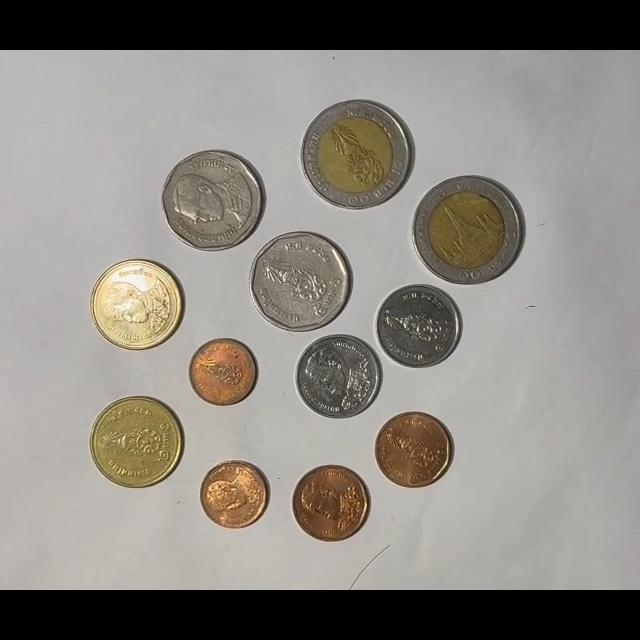1-baht: (294, 334, 381, 420), (375, 284, 461, 370)
10-baht: (301, 99, 414, 211), (412, 176, 523, 286)
2-baht: (89, 395, 184, 488), (90, 259, 184, 352)
25-satang: (199, 460, 270, 531), (188, 338, 258, 406)
5-baht: (250, 231, 353, 334), (161, 150, 265, 252)
50-satang: (374, 411, 453, 489), (292, 465, 371, 542)
